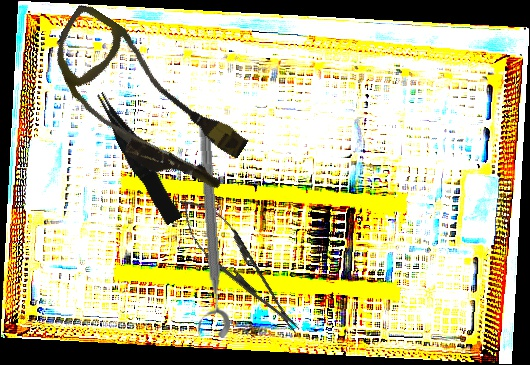Cannula: (24, 0, 264, 207)
Fixation Ring: (181, 120, 231, 340)
Needle Holder: (166, 186, 313, 345)
Tissue Forceps: (93, 85, 183, 229)
